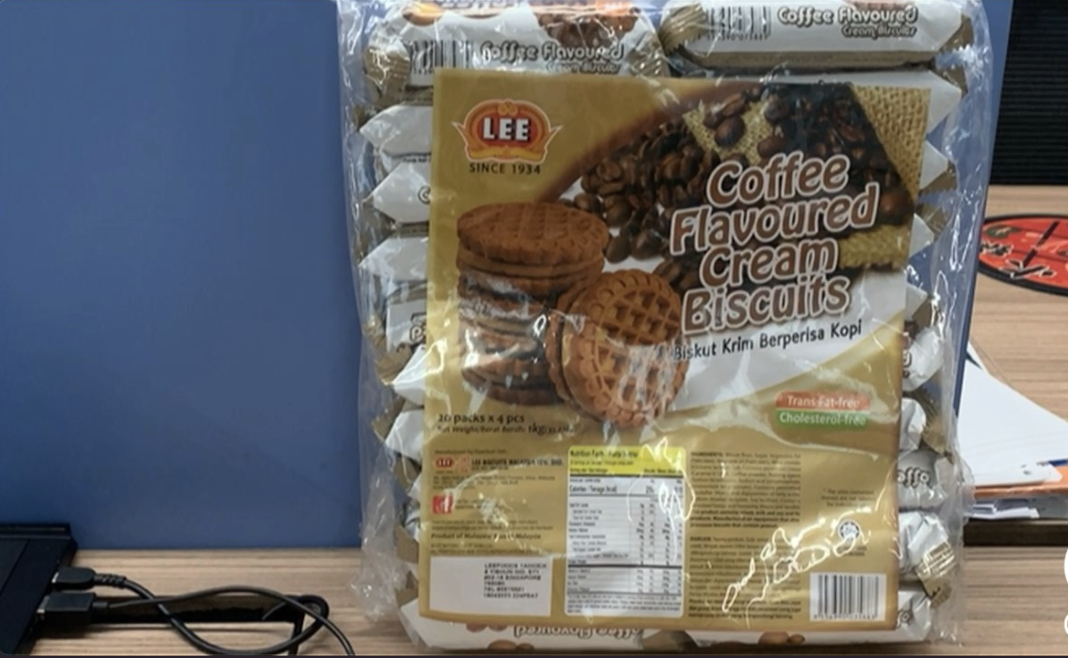cookies_1kg-1.99kg: (463, 99, 868, 617)
